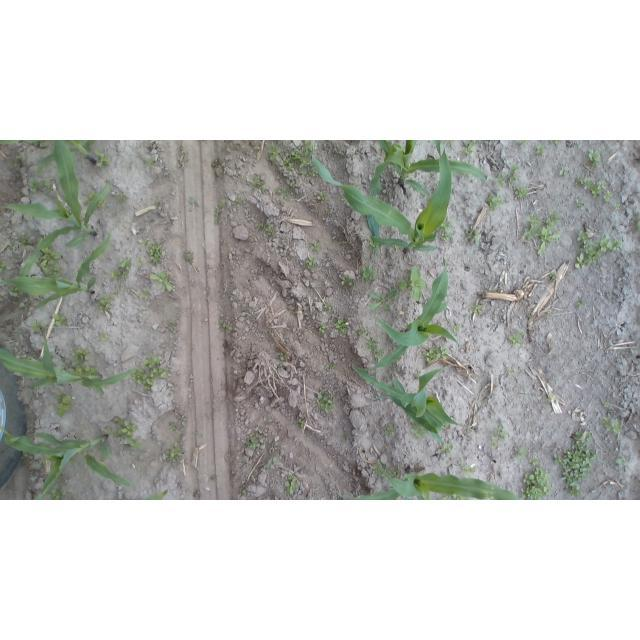Maize: (4, 141, 111, 278), (312, 148, 451, 251), (351, 260, 460, 369), (367, 140, 487, 236), (0, 425, 132, 500), (352, 364, 466, 444), (0, 234, 110, 310), (0, 332, 136, 387), (338, 459, 520, 500), (40, 140, 103, 170), (141, 489, 169, 500), (0, 141, 20, 144), (23, 141, 40, 144)
Weeds: (552, 428, 597, 500), (523, 211, 565, 255), (578, 230, 623, 267), (522, 456, 550, 501), (133, 354, 167, 389), (399, 264, 427, 305), (284, 141, 313, 172), (116, 422, 143, 450), (369, 287, 396, 312), (495, 163, 525, 185), (488, 421, 508, 452), (149, 270, 174, 293), (54, 389, 73, 419), (316, 386, 337, 413), (599, 415, 623, 438), (143, 238, 163, 265), (110, 257, 130, 282), (426, 344, 447, 364), (38, 249, 62, 266), (366, 338, 385, 359), (245, 433, 266, 451), (465, 225, 483, 244), (99, 292, 117, 310), (461, 140, 479, 158), (484, 194, 503, 211), (441, 221, 455, 243), (285, 476, 302, 494), (410, 422, 426, 441), (255, 221, 275, 235), (572, 174, 593, 187), (269, 146, 284, 164), (591, 180, 606, 198), (587, 148, 602, 166), (507, 332, 525, 347), (513, 447, 527, 466), (360, 262, 373, 282), (333, 318, 348, 335), (73, 363, 96, 374), (28, 180, 49, 192), (51, 486, 69, 500), (459, 465, 477, 479), (264, 456, 280, 470), (439, 444, 453, 459), (96, 150, 109, 166), (51, 314, 67, 327), (615, 457, 631, 470), (74, 348, 90, 361), (383, 468, 401, 479), (340, 273, 354, 287), (169, 443, 183, 457), (470, 301, 486, 313), (254, 175, 267, 189), (513, 186, 528, 198), (45, 267, 62, 277), (502, 364, 517, 375), (574, 196, 586, 209), (437, 495, 468, 500), (311, 238, 322, 252), (185, 250, 195, 265), (316, 190, 328, 202), (13, 157, 26, 168), (304, 259, 317, 270), (452, 323, 463, 336), (575, 294, 585, 308), (535, 145, 546, 157), (139, 288, 152, 298), (356, 326, 366, 339), (215, 200, 226, 211), (559, 167, 570, 178), (221, 320, 231, 332), (31, 321, 43, 331), (385, 426, 395, 437), (296, 417, 306, 428), (141, 156, 153, 165), (276, 184, 285, 196), (169, 320, 179, 330), (323, 301, 333, 311), (284, 190, 294, 200), (605, 191, 614, 202), (215, 211, 222, 224), (112, 417, 125, 424), (103, 427, 115, 434), (236, 196, 245, 205), (318, 325, 327, 334), (8, 241, 16, 250), (240, 483, 246, 495), (97, 330, 106, 338), (21, 236, 29, 245), (548, 140, 560, 146), (370, 240, 378, 248), (279, 354, 286, 363), (1, 261, 6, 273), (188, 198, 196, 205), (289, 182, 296, 190), (549, 270, 556, 278), (10, 285, 18, 292), (119, 193, 127, 200), (168, 423, 177, 429), (518, 141, 528, 146), (97, 201, 104, 208), (614, 203, 621, 210), (601, 400, 609, 406), (182, 145, 187, 153), (637, 218, 640, 231), (314, 170, 319, 177), (546, 397, 552, 402), (547, 310, 552, 315)
